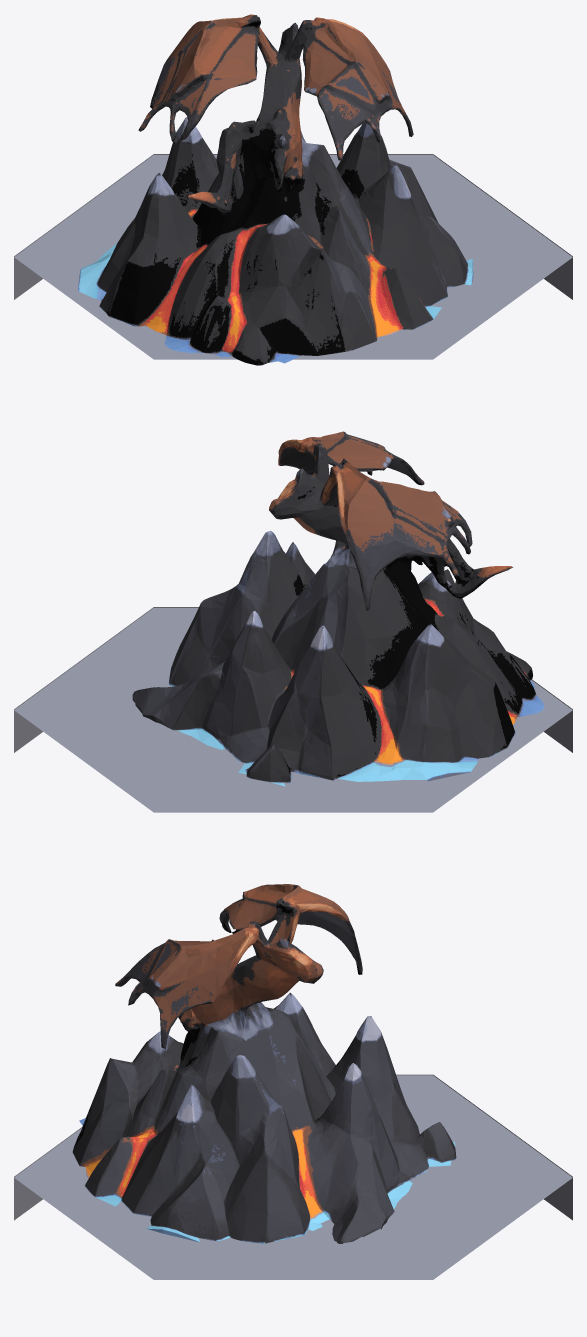
The model's file is dragon-mountain-sea.glb.
3 renders of one model, top to bottom at view 1: azimuth 30°, elevation 25°; view 2: azimuth 150°, elevation 25°; view 3: azimuth 270°, elevation 25°, orthographic.
Visible parts, largest first — view 1: world, hexBase; view 2: world, hexBase; view 3: world, hexBase.
Boxes of the visible parts, bbox=[...] form: world: bbox=[78, 14, 473, 365]; hexBase: bbox=[14, 154, 572, 359]; world: bbox=[132, 431, 544, 786]; hexBase: bbox=[14, 607, 572, 812]; world: bbox=[72, 884, 456, 1243]; hexBase: bbox=[14, 1074, 572, 1279].
Size of the model in its own units: 1 by 0.6827 by 1.15.
3 materials, 1 textured.
